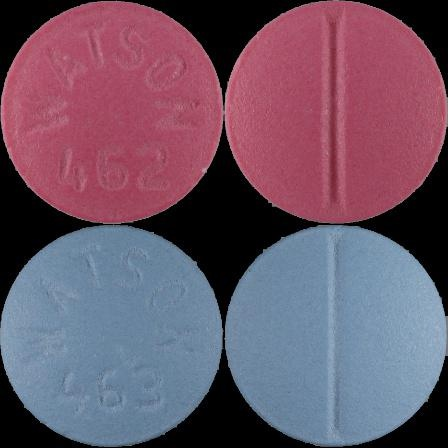0591-0462: (0, 0, 224, 224)
